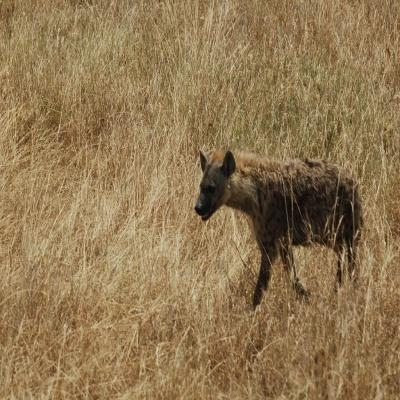hyenas: (190, 128, 400, 336)
